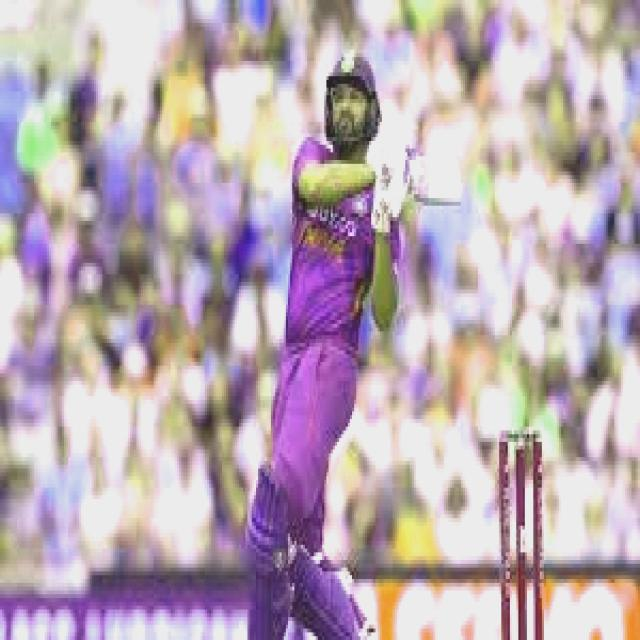toe: (452, 160, 467, 203)
